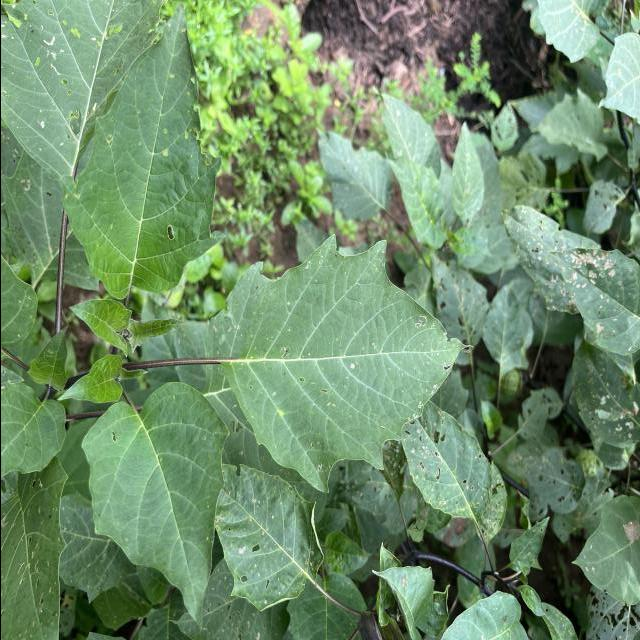Datura metal linn: (214, 228, 476, 498), (54, 0, 226, 302), (78, 377, 234, 634), (67, 297, 133, 359), (54, 353, 124, 405)
